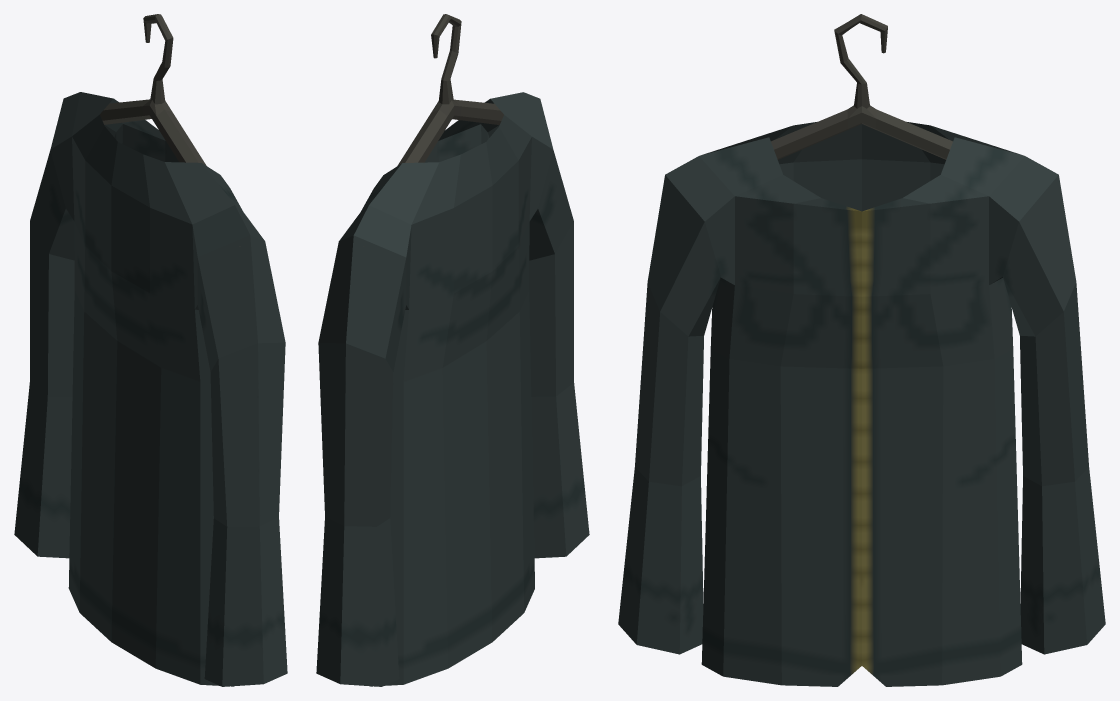
Rendered from coat_closed.fbx.
The picture shows the model from 3 angles, left to right: view 1: azimuth 30°, elevation 25°; view 2: azimuth 150°, elevation 25°; view 3: azimuth 270°, elevation 25°; orthographic projection. The views are drawn at different scales.
Visible parts, largest first — view 1: jacket_closed; view 2: jacket_closed; view 3: jacket_closed.
Part boxes in pixels (bbox=[...]): jacket_closed: bbox=[14, 14, 287, 686]; jacket_closed: bbox=[316, 14, 589, 686]; jacket_closed: bbox=[618, 14, 1105, 686].
Size of the model in its own units: 304 by 69.7 by 448.
